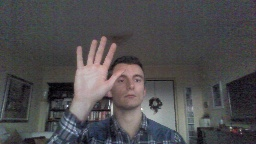Mano_aperta: (70, 34, 126, 102)
